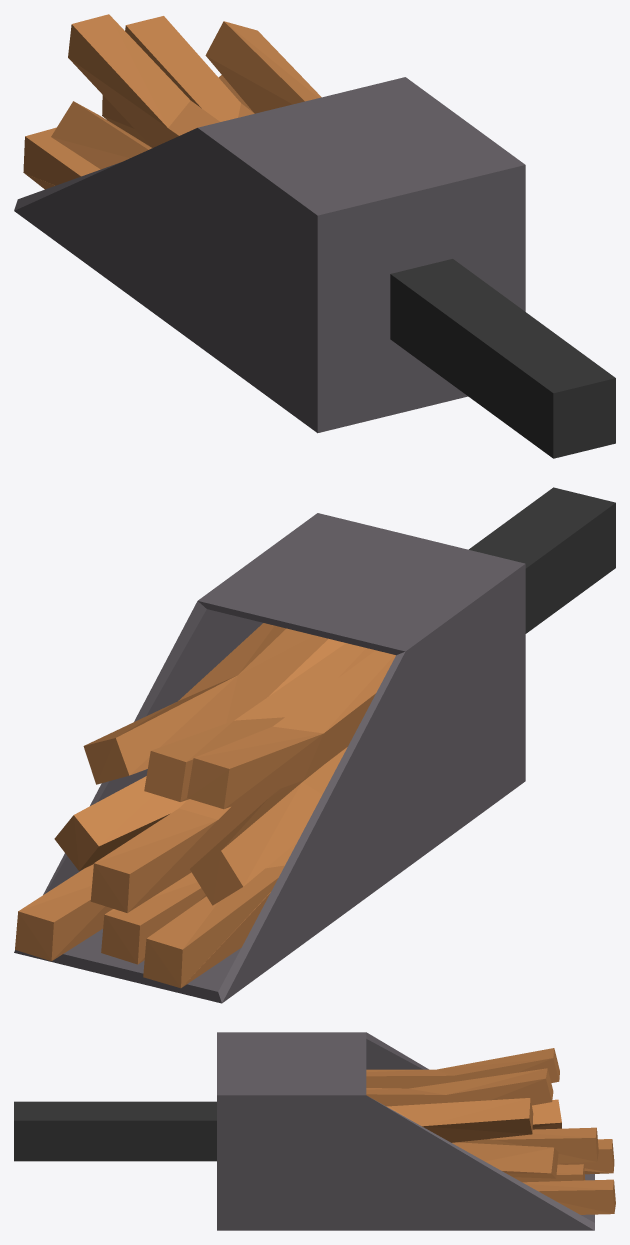
The model's file is ScooperFries.fbx.
3 renders of one model, top to bottom at view 1: azimuth 30°, elevation 25°; view 2: azimuth 150°, elevation 25°; view 3: azimuth 270°, elevation 25°, orthographic. The views are drawn at different scales.
Parts seen in each view (by area): view 1: Cube.017, Cube.025, Cube.024, Cube.026, Cube.022, Cube.019, Cube.023; view 2: Cube.017, Cube.025, Cube.024, Cube.023, Cube.019, Cube.022, Cube.026, Cube.021, Cube.020, Cube.018; view 3: Cube.017, Cube.024, Cube.026, Cube.025, Cube.021, Cube.023, Cube.020, Cube.019, Cube.022, Cube.018.
Part boxes in pixels (left/top/right/bottom): Cube.017: left=14, top=77, right=615, bottom=458; Cube.025: left=68, top=14, right=219, bottom=147; Cube.024: left=205, top=21, right=321, bottom=113; Cube.026: left=125, top=16, right=254, bottom=121; Cube.022: left=51, top=101, right=152, bottom=169; Cube.019: left=23, top=127, right=100, bottom=189; Cube.023: left=102, top=95, right=151, bottom=147; Cube.017: left=14, top=487, right=615, bottom=1003; Cube.025: left=187, top=650, right=395, bottom=809; Cube.024: left=83, top=623, right=328, bottom=784; Cube.023: left=90, top=789, right=279, bottom=912; Cube.019: left=143, top=842, right=297, bottom=988; Cube.022: left=190, top=747, right=347, bottom=905; Cube.026: left=144, top=643, right=375, bottom=801; Cube.021: left=54, top=639, right=345, bottom=870; Cube.020: left=15, top=864, right=112, bottom=961; Cube.018: left=101, top=872, right=206, bottom=964; Cube.017: left=14, top=1032, right=594, bottom=1230; Cube.024: left=386, top=1098, right=533, bottom=1142; Cube.026: left=366, top=1068, right=553, bottom=1106; Cube.025: left=366, top=1048, right=559, bottom=1088; Cube.021: left=452, top=1142, right=558, bottom=1178; Cube.023: left=459, top=1127, right=598, bottom=1162; Cube.020: left=522, top=1179, right=615, bottom=1214; Cube.019: left=557, top=1139, right=614, bottom=1174; Cube.022: left=532, top=1099, right=561, bottom=1129; Cube.018: left=513, top=1164, right=585, bottom=1182.
Bounding box in the file's own units: 304 × 304 × 1227.
